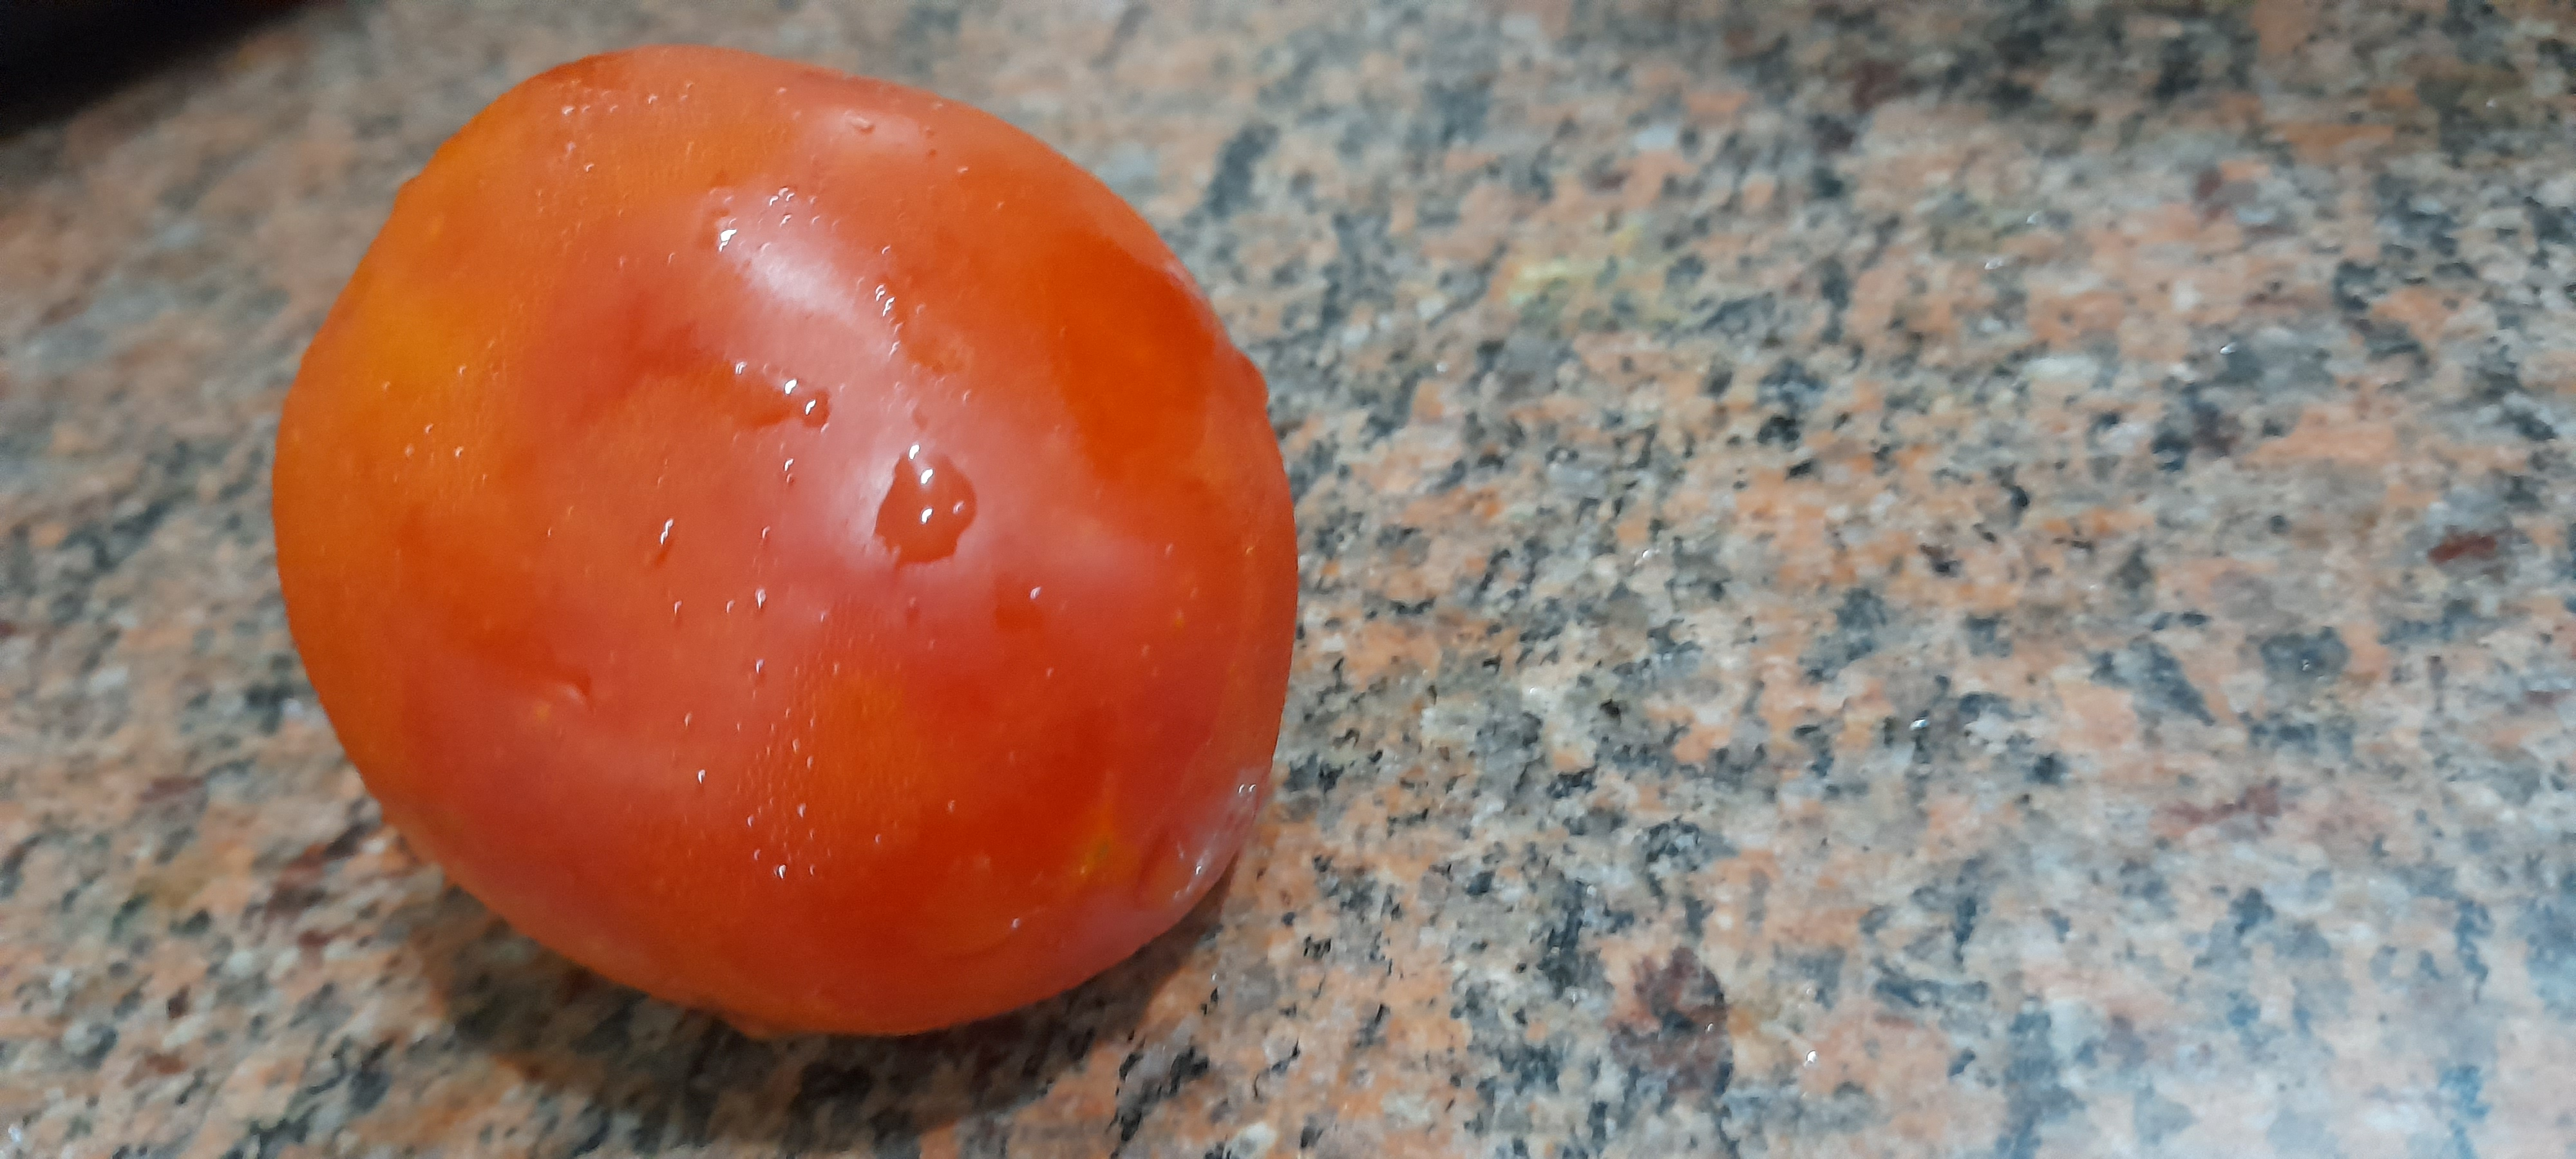tomato: (200, 15, 1403, 1069)
